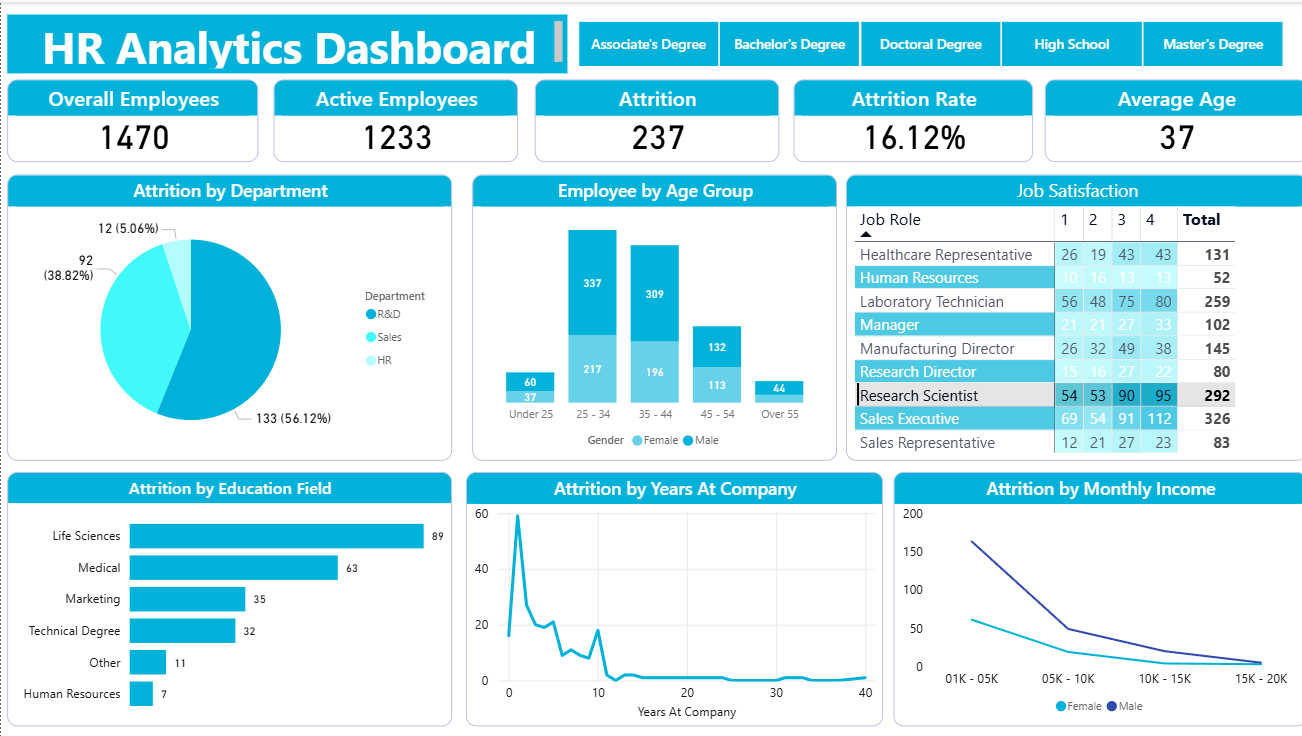

The dashboard page shown, as its layout file describes it:
{"tool":"powerbi","page":{"name":"Page 1","canvas":[1280,720],"ordinal":0},"visuals":[{"type":"card","title":"Overall Employees","fields":{"Values":["Sum(HR data.Employee Count)"]},"box":[6.5,76,245.9,80.9],"z":0},{"type":"card","title":"Attrition","fields":{"Values":["Sum(HR data.Attrition Count)"]},"box":[522.6,76,239.5,80.9],"z":1000},{"type":"card","title":"Attrition Rate","fields":{"Values":["HR data.Attrition Rate"]},"box":[775,76,234.6,80.9],"z":2000},{"type":"card","title":"Active Employees","fields":{"Values":["HR data.Active Employees"]},"box":[267,76,239.5,80.9],"z":3000},{"type":"card","title":"Average Age","fields":{"Values":["Avg(HR data.Age)"]},"box":[1020.9,76,257.3,80.9],"z":4000},{"type":"pieChart","title":"Attrition by Department","fields":{"Category":["HR data.Department"],"Y":["Sum(HR data.Attrition Count)"]},"box":[6.5,168.3,435.2,279.9],"z":5000},{"type":"columnChart","title":"Employee by Age Group","fields":{"Category":["HR data.CF_age band"],"Y":["Sum(HR data.Employee Count)"],"Series":["HR data.Gender"]},"box":[461,168.8,357.1,280],"z":6000},{"type":"pivotTable","title":"Job Satisfaction","fields":{"Rows":["HR data.Job Role"],"Columns":["HR data.Job Satisfaction"],"Values":["Sum(HR data.Employee Count)"]},"box":[826.8,168.3,451.4,279.9],"z":7000},{"type":"barChart","title":"Attrition by Education Field","fields":{"Y":["Sum(HR data.Attrition Count)"],"Category":["HR data.Education Field"]},"box":[6.5,459.5,435.2,249.2],"z":8000},{"type":"textbox","box":[6.1,12.2,547.8,57.5],"z":9000},{"type":"slicer","fields":{"Values":["HR data.Education"]},"box":[539.3,12.2,738.6,57.5],"z":10000},{"type":"lineChart","title":"Attrition by Years At Company","fields":{"Category":["HR data.Years At Company"],"Y":["Sum(HR data.Attrition Count)"]},"box":[454.7,459.5,407.7,249.2],"z":11000},{"type":"stackedAreaChart","title":"Attrition by Monthly Income","fields":{"Category":["HR data.Income Range"],"Y":["Sum(HR data.Attrition Count)"],"Series":["HR data.Gender"]},"box":[873.7,459.5,404.5,249.2],"z":12000}]}

Visuals, with their boxes in screenshot pixels (x1, y1, x2, y2), scaled from the page's 1280x720 canvas onto the 1302x736 screenshot:
"Overall Employees" card: 7, 78, 257, 160
"Attrition" card: 532, 78, 775, 160
"Attrition Rate" card: 788, 78, 1027, 160
"Active Employees" card: 272, 78, 515, 160
"Average Age" card: 1038, 78, 1300, 160
"Attrition by Department" pieChart: 7, 172, 449, 458
"Employee by Age Group" columnChart: 469, 173, 832, 459
"Job Satisfaction" pivotTable: 841, 172, 1300, 458
"Attrition by Education Field" barChart: 7, 470, 449, 724
textbox: 6, 12, 563, 71
slicer - HR data.Education: 549, 12, 1300, 71
"Attrition by Years At Company" lineChart: 463, 470, 877, 724
"Attrition by Monthly Income" stackedAreaChart: 889, 470, 1300, 724
